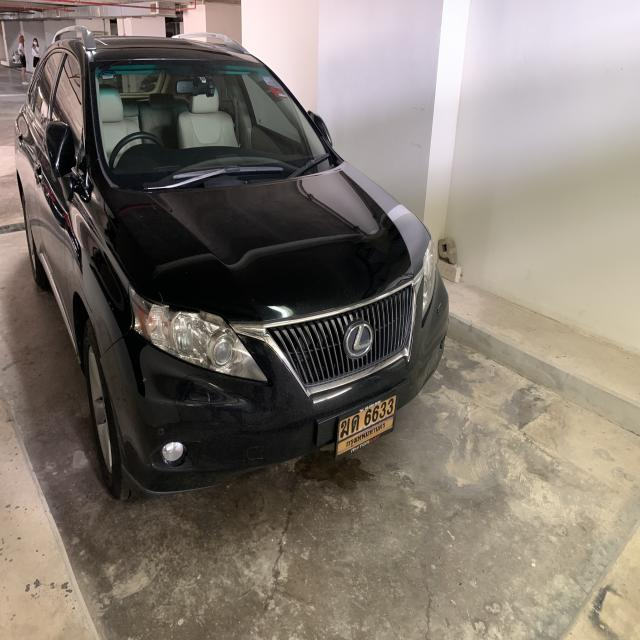license_plate: (335, 389, 403, 462)
